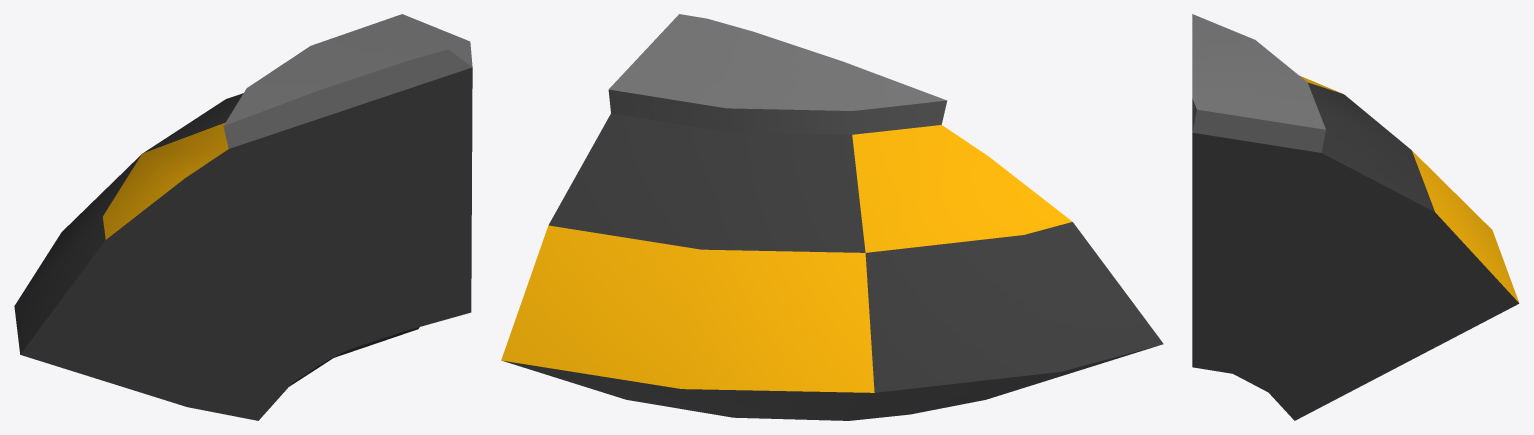
The model's file is kea1f.obj.
3 views of the same model, side by side, from view 1: azimuth 30°, elevation 25°; view 2: azimuth 150°, elevation 25°; view 3: azimuth 270°, elevation 25° (orthographic). The views are drawn at different scales.
Parts seen in each view (by area): view 1: Cube2; view 2: Cube2; view 3: Cube2.
Part boxes in pixels (x1,y1,x2,y2): Cube2: [14, 14, 472, 420]; Cube2: [501, 14, 1163, 420]; Cube2: [1192, 14, 1519, 420].
Size of the model in its own units: 1.93 by 1.33 by 1.26.
